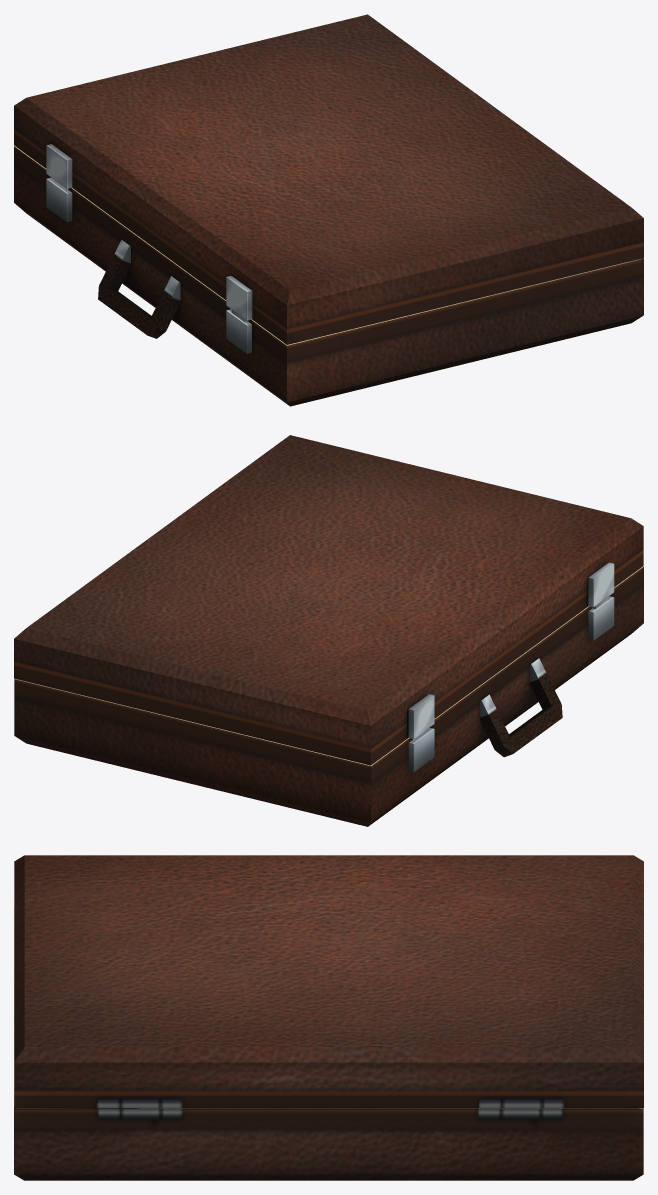
Rendered from Loot_briefcase_close.FBX.
The picture shows the model from 3 angles, top to bottom: view 1: azimuth 30°, elevation 25°; view 2: azimuth 150°, elevation 25°; view 3: azimuth 270°, elevation 25°; orthographic projection. The views are drawn at different scales.
Visible parts, largest first — view 1: Loot_briefcase_close; view 2: Loot_briefcase_close; view 3: Loot_briefcase_close.
Part boxes in pixels (bbox=[...]): Loot_briefcase_close: bbox=[14, 14, 643, 406]; Loot_briefcase_close: bbox=[14, 435, 643, 826]; Loot_briefcase_close: bbox=[14, 855, 643, 1180].
Bounding box in the file's own units: 49.6 × 14.58 × 60.72.
